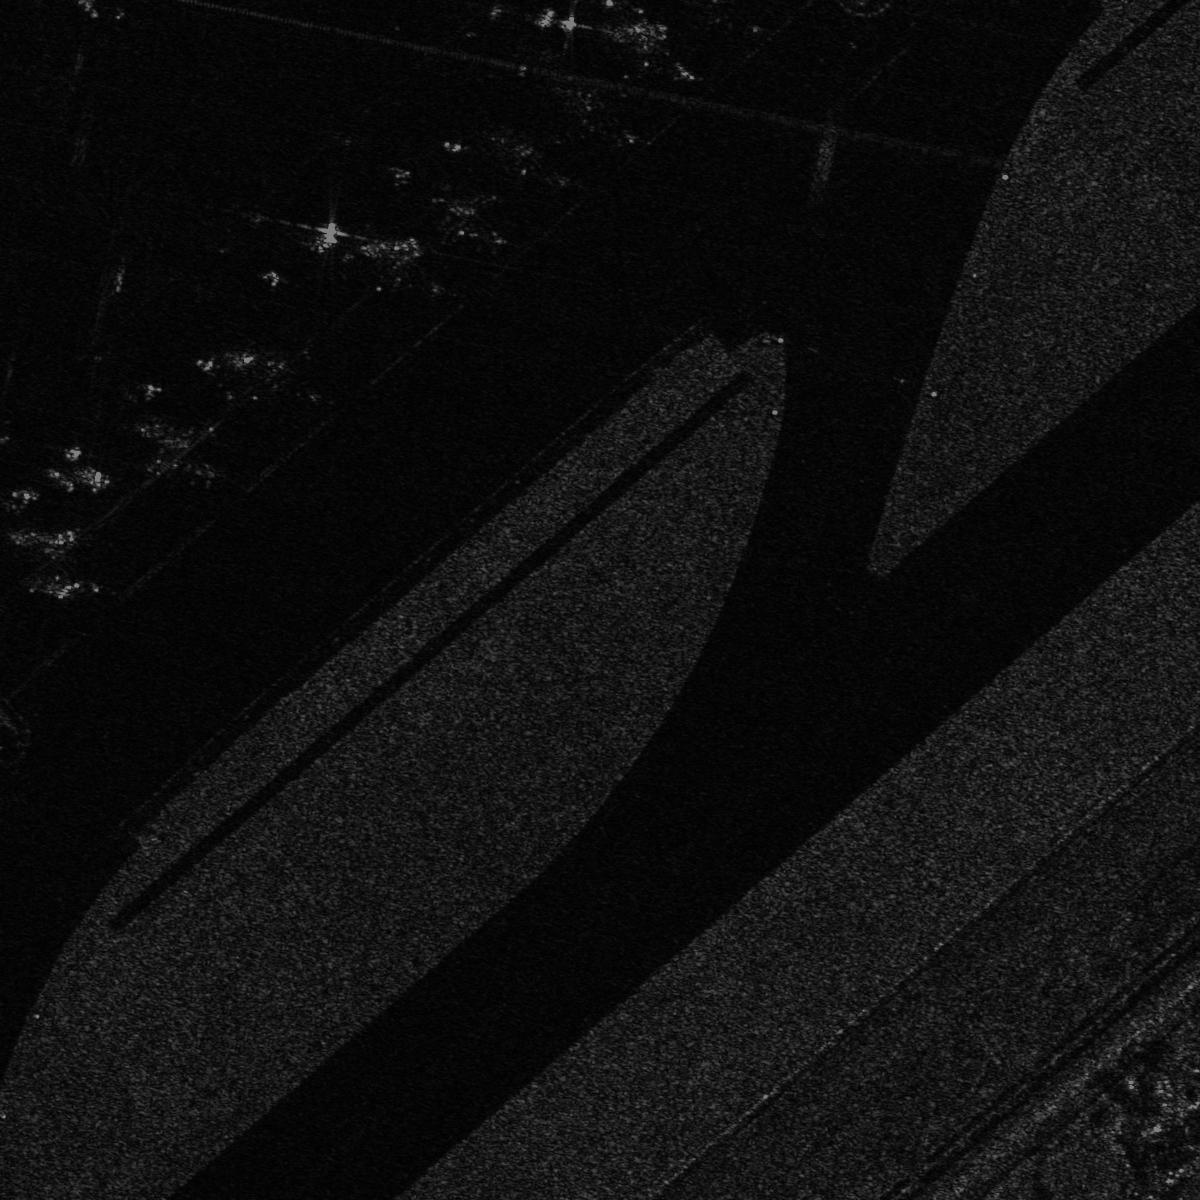Boeing737: (135, 414, 243, 502), (211, 341, 333, 416), (541, 69, 647, 155), (492, 122, 591, 204), (362, 237, 456, 311), (438, 184, 507, 254)
